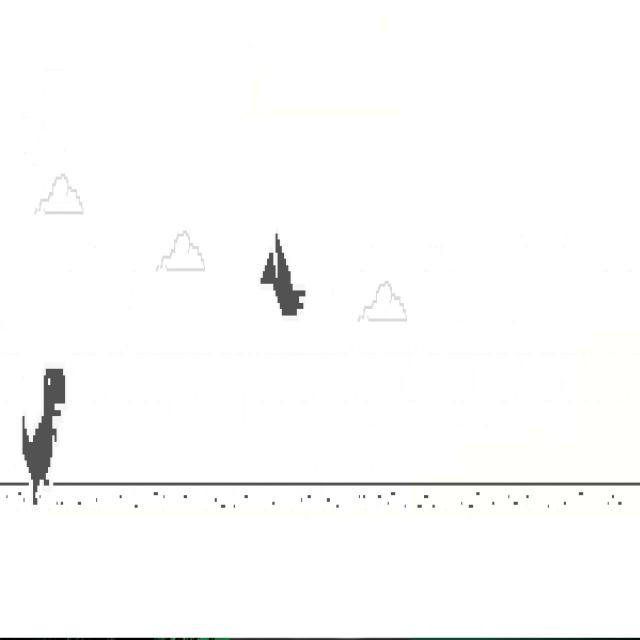dino: (21, 368, 66, 506)
ptero: (260, 232, 306, 317)
